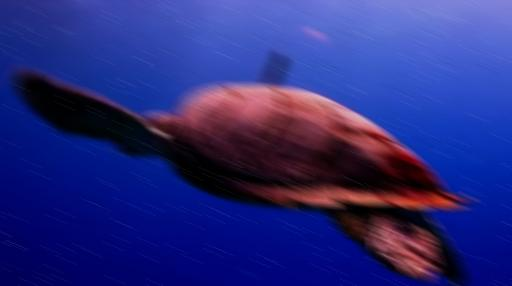Fish: (15, 54, 470, 285)
